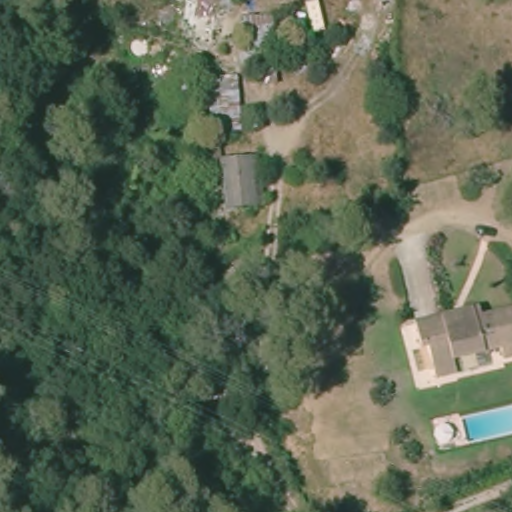pool: (462, 402, 512, 445)
